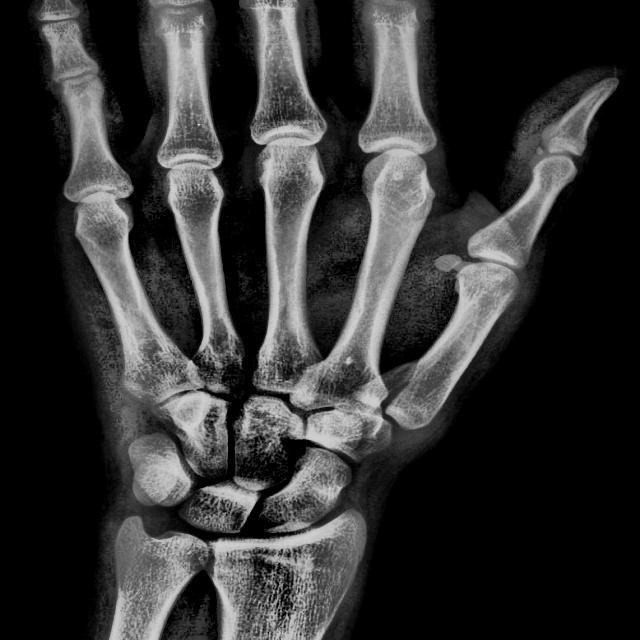fracture: (366, 372, 424, 424)
